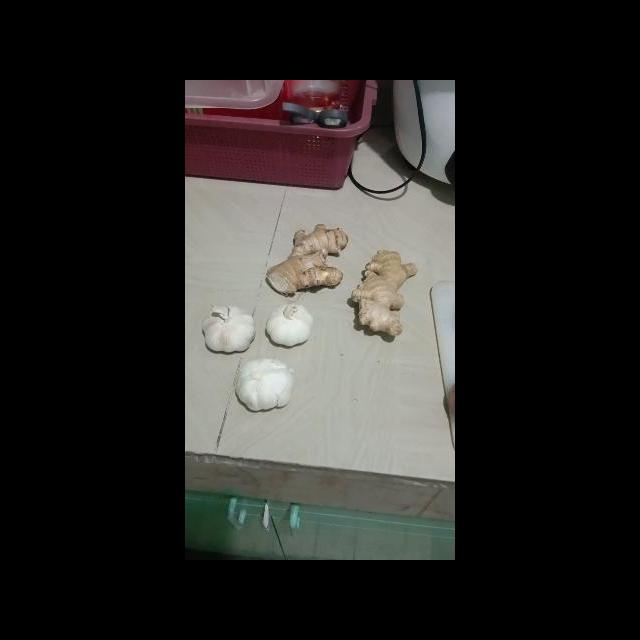garlic: (233, 356, 293, 413), (203, 304, 256, 354), (265, 302, 313, 347)
ginger: (265, 222, 351, 298), (348, 248, 418, 341)
